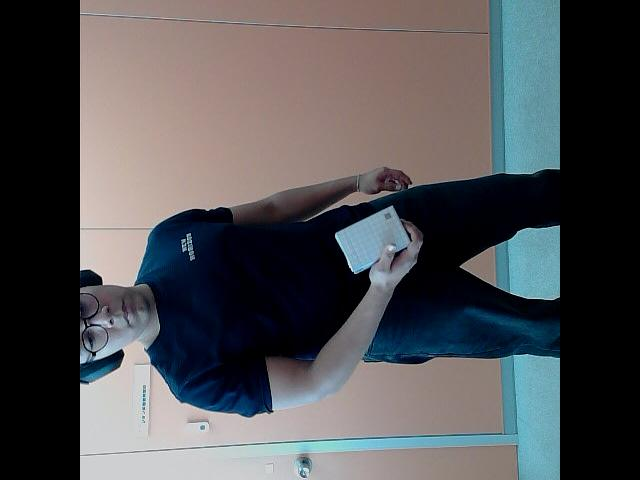Blind_box: (336, 202, 412, 274)
